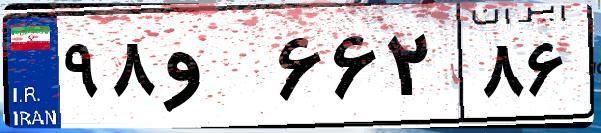2: (385, 28, 445, 110)
6: (270, 28, 330, 110), (330, 28, 385, 110), (525, 38, 570, 115)
8: (475, 38, 525, 113), (110, 28, 158, 98)
9: (57, 26, 110, 100)
و: (158, 20, 270, 120)
